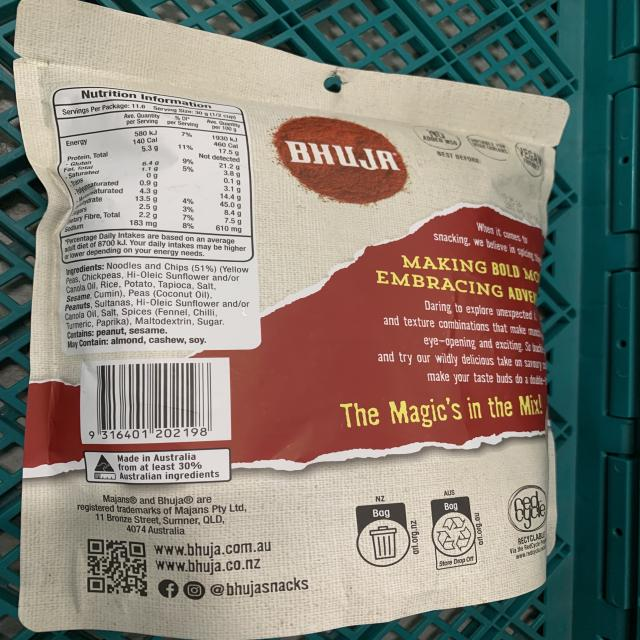object_name: (34, 34, 576, 619)
